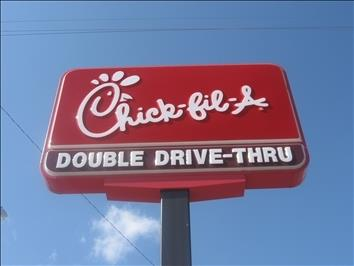Chick_Fil_A: (74, 64, 275, 139)
